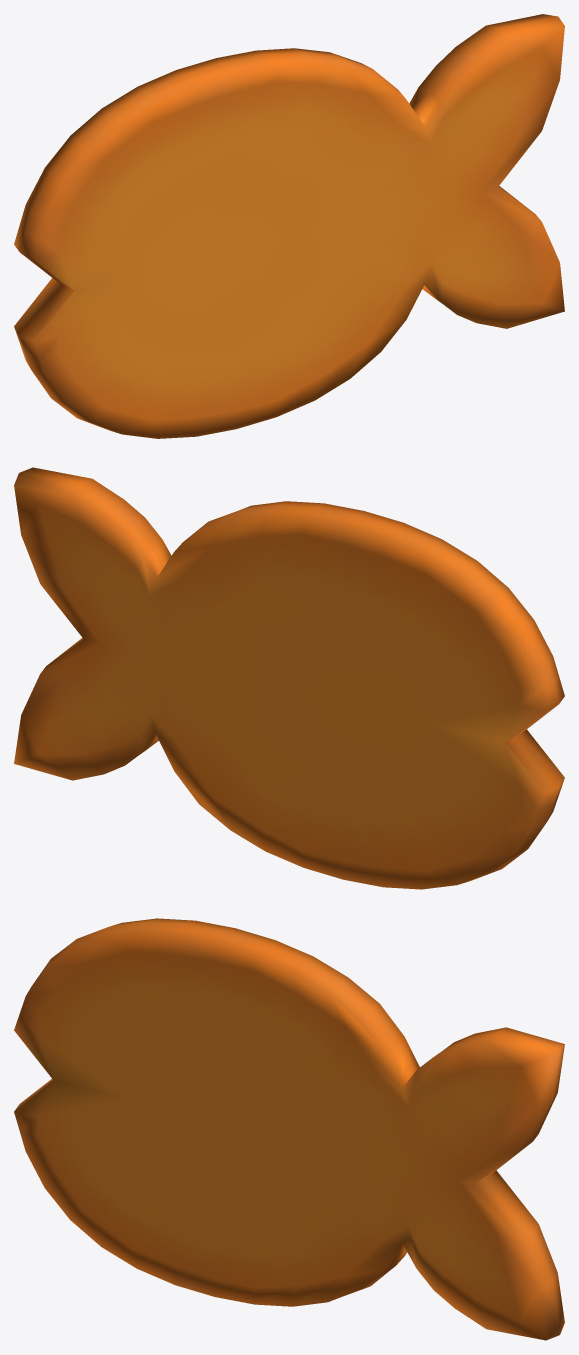
File: pez.fbx
The picture shows the model from 3 angles, top to bottom: view 1: azimuth 30°, elevation 25°; view 2: azimuth 150°, elevation 25°; view 3: azimuth 330°, elevation 25°; orthographic projection.
Visible parts, largest first — view 1: Plane.001; view 2: Plane.001; view 3: Plane.001.
Boxes of the visible parts, left/top/right/bottom form: Plane.001: left=14, top=14, right=564, bottom=438; Plane.001: left=14, top=467, right=564, bottom=889; Plane.001: left=14, top=918, right=564, bottom=1340.
Size of the model in its own units: 98.6 by 63.03 by 7.25.
Materials: 1 (1 with a texture image).
